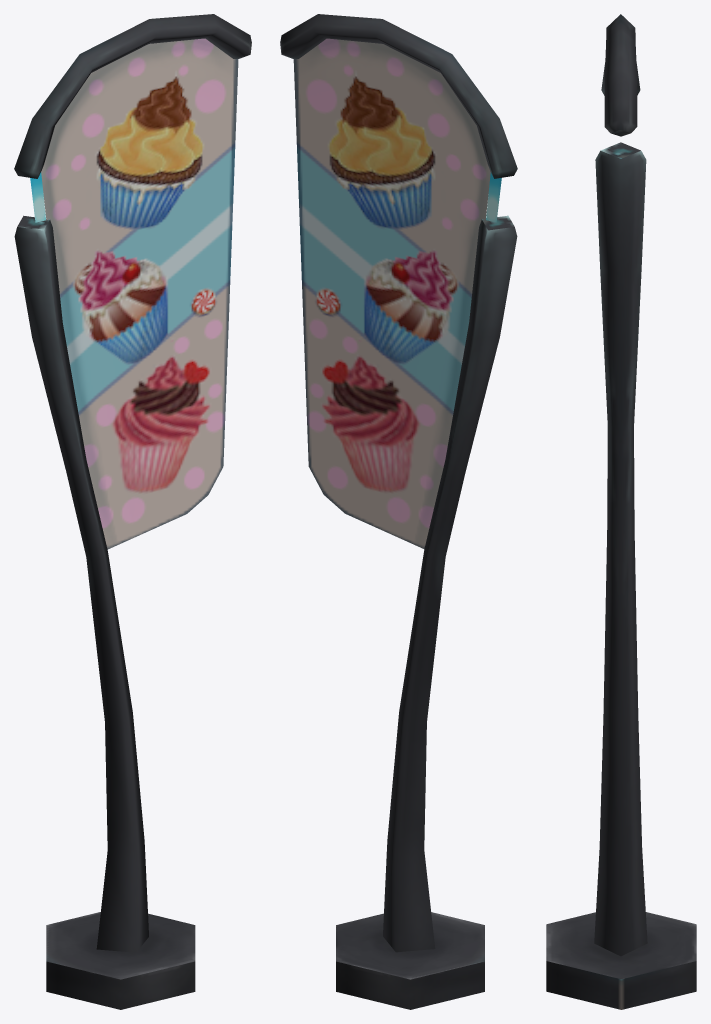
3 renders of one model, left to right at view 1: azimuth 30°, elevation 25°; view 2: azimuth 150°, elevation 25°; view 3: azimuth 270°, elevation 25°, orthographic.
Parts seen in each view (by area): view 1: wq_jz007_02; view 2: wq_jz007_02; view 3: wq_jz007_02.
Part boxes in pixels (x1,y1,x2,y2): wq_jz007_02: (14, 14, 251, 1009); wq_jz007_02: (280, 14, 517, 1009); wq_jz007_02: (546, 14, 696, 1009).
Bounding box in the file's own units: 79.35 × 302 × 43.06.
1 material, 1 textured.
